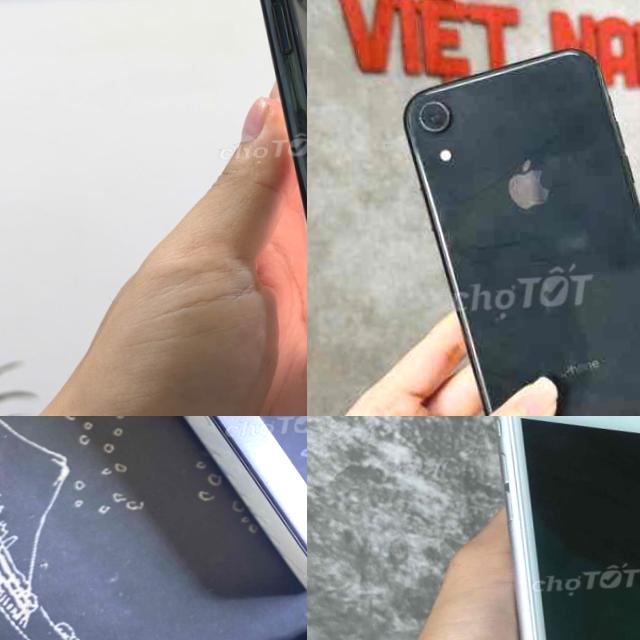gen_11: (231, 0, 307, 387)
gen_12_13: (37, 416, 307, 640)
gen_6: (481, 416, 640, 640)
gen_x_xs: (378, 26, 640, 416)
